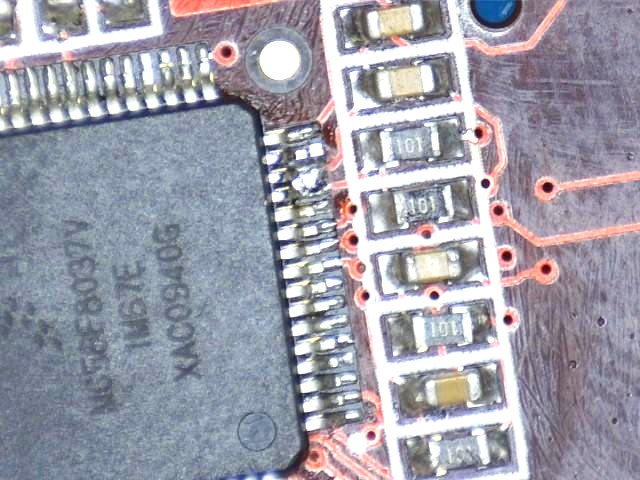pcb_defect: (268, 167, 329, 203)
